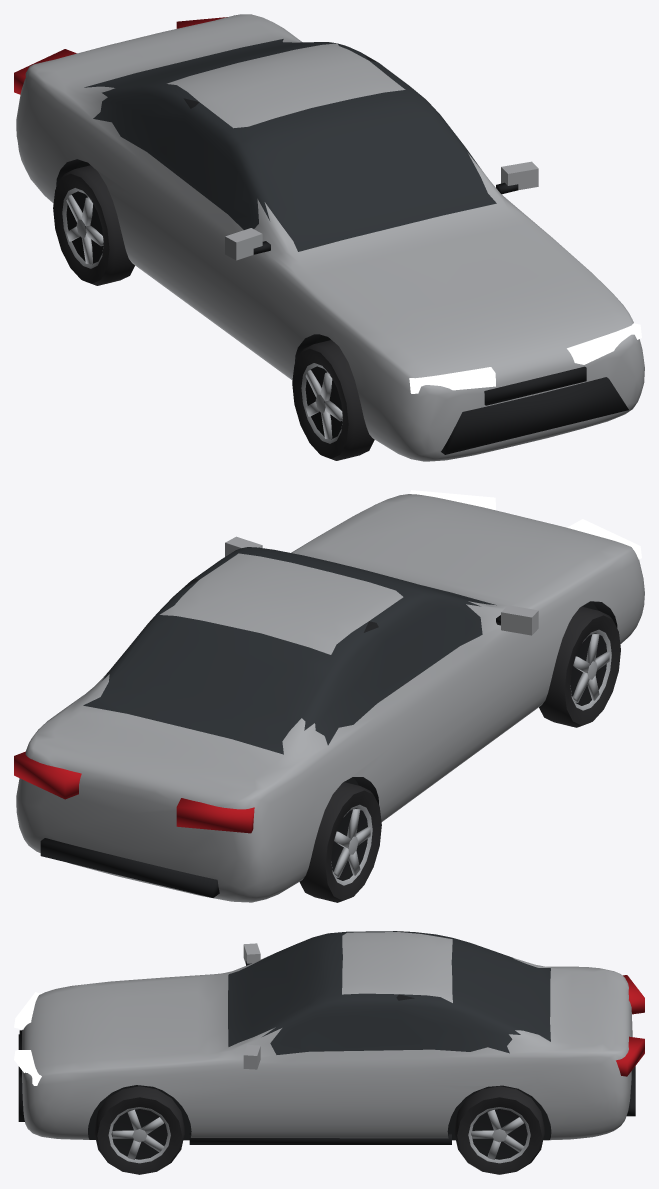
The model's file is velora-sedan-lite.glb.
3 renders of one model, top to bottom at view 1: azimuth 30°, elevation 25°; view 2: azimuth 150°, elevation 25°; view 3: azimuth 270°, elevation 25°, orthographic. The views are drawn at different scales.
Visible parts, largest first — view 1: velora-sedan-lite; view 2: velora-sedan-lite; view 3: velora-sedan-lite.
Boxes of the visible parts, <box> form: velora-sedan-lite: <box>14,14,644,461</box>; velora-sedan-lite: <box>14,490,644,902</box>; velora-sedan-lite: <box>14,931,644,1174</box>.
Bounding box in the file's own units: 2.13 × 1.47 × 5.05.
